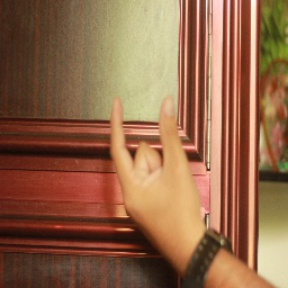U: (99, 89, 199, 218)
